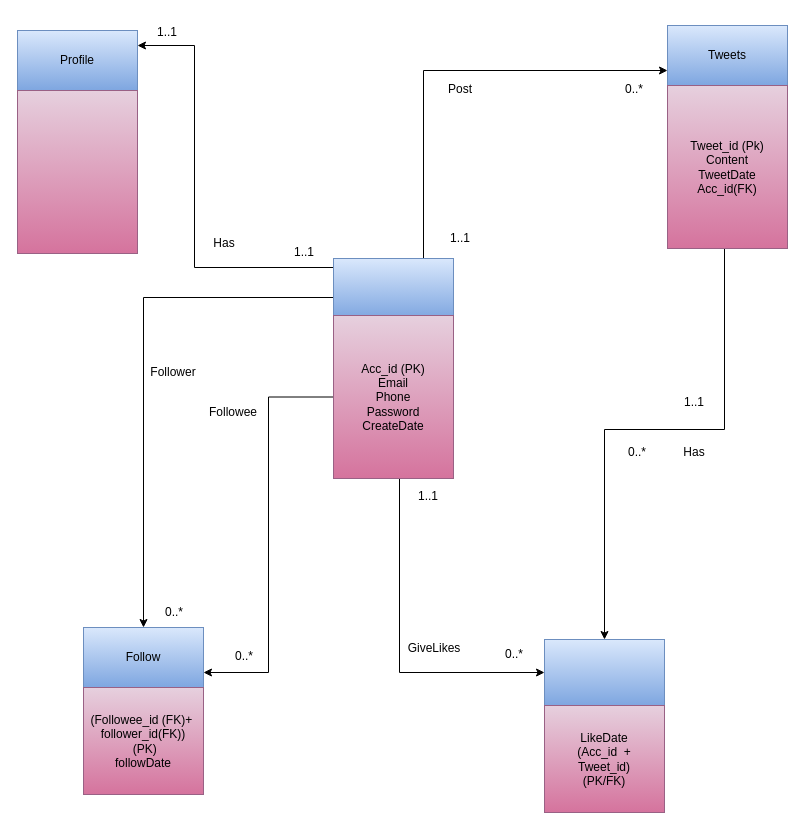
Image size: 805x830. Some labels were removed from this diagram. The centre of each missing label's shape, as x and y in pixels:
Acc_id (PK/FK) User_name Bio photo: the point at 77,172
Account: the point at 393,288
Likes: the point at 604,672
